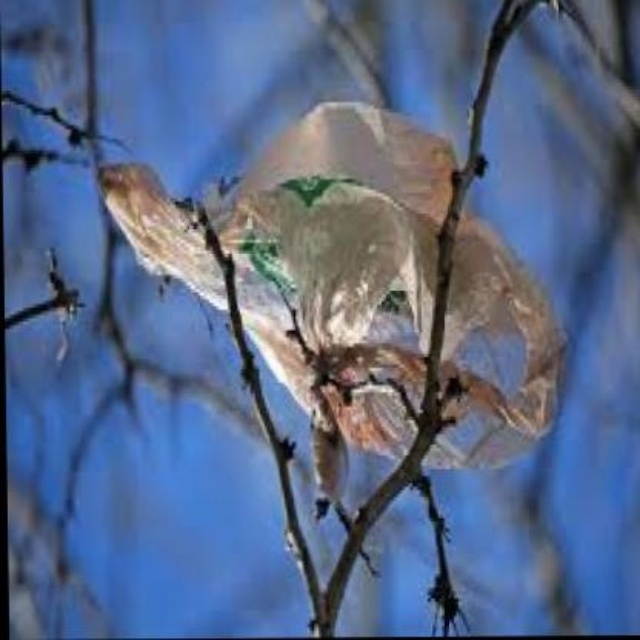trash: (211, 102, 454, 457), (425, 214, 563, 466), (102, 165, 225, 308)
